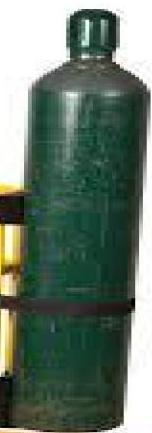cylinder: (1, 1, 152, 433)
